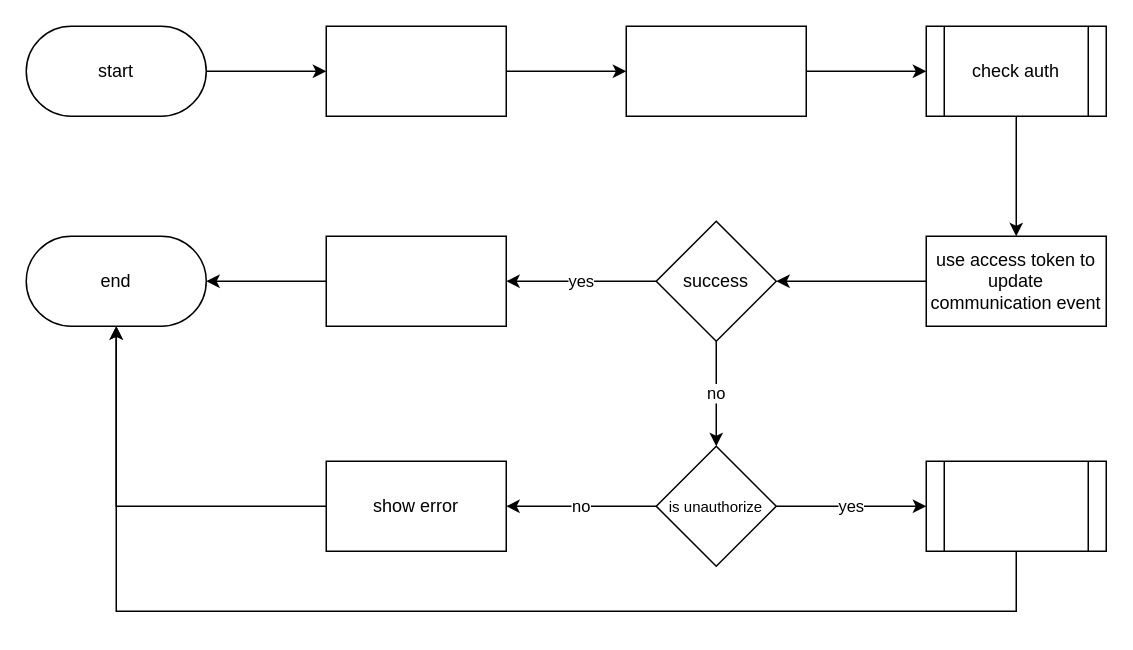
The diagram is 1133 pixels wide and 650 high, and some of its shapes have lost their labels. The centre of each missing label's shape, as x and y in pixels:
"logout" goes at point 1015,505.
"press update communication event button" goes at point 415,70.
"show communication events" goes at point 415,280.
"update communication event detail" goes at point 715,70.
